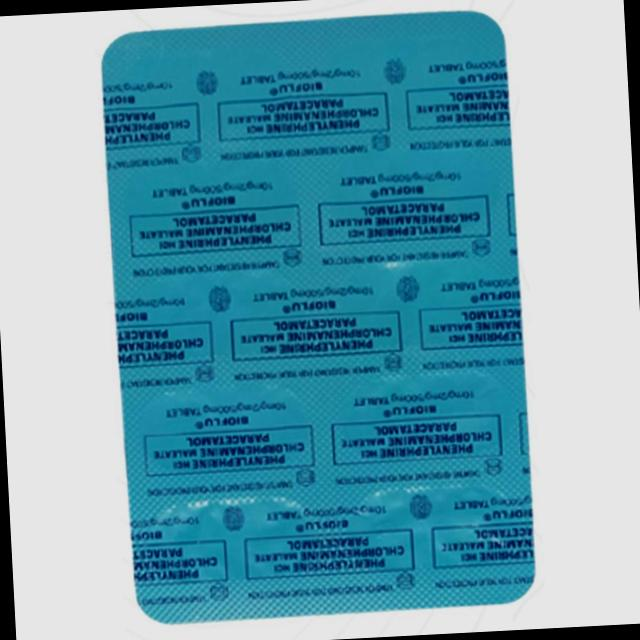blister: (93, 0, 545, 631)
